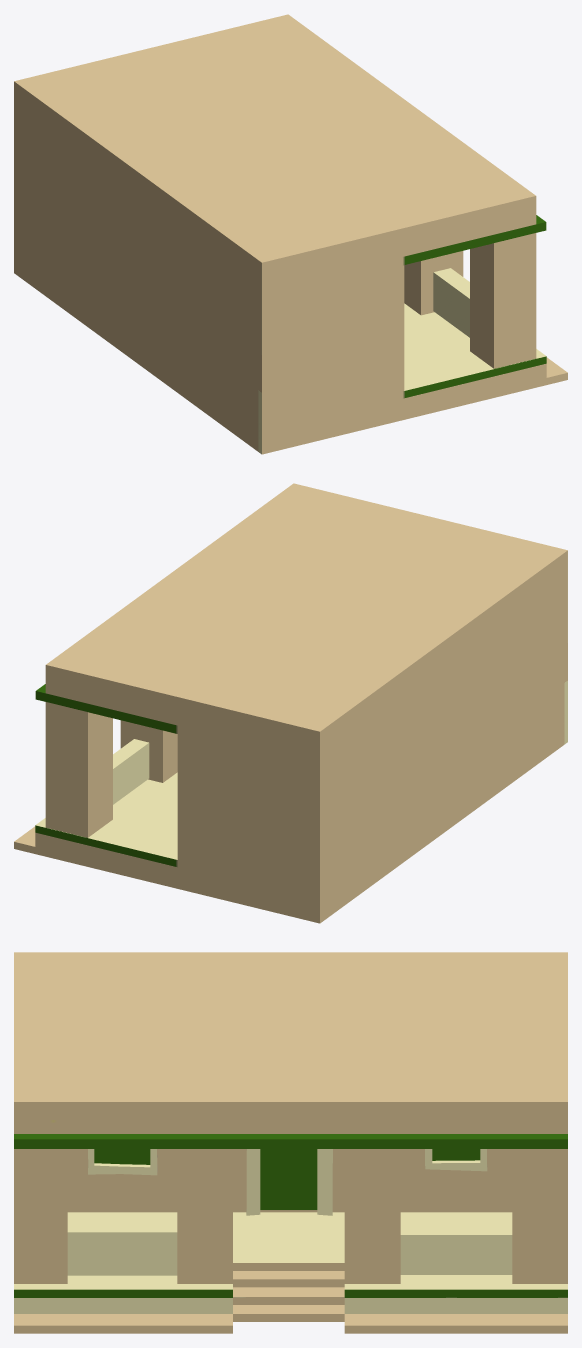
File: SchoolB1.fbx
3 views of the same model, one above another, from view 1: azimuth 30°, elevation 25°; view 2: azimuth 150°, elevation 25°; view 3: azimuth 270°, elevation 25° (orthographic). The views are drawn at different scales.
Visible parts, largest first — view 1: Cube; view 2: Cube; view 3: Cube.
Boxes of the visible parts, x1=… form: Cube: x1=14, y1=14, x2=567, y2=454; Cube: x1=14, y1=483, x2=567, y2=923; Cube: x1=14, y1=952, x2=567, y2=1333.
Size of the model in its own units: 1312 by 786 by 1841.
1 material, 1 textured.
